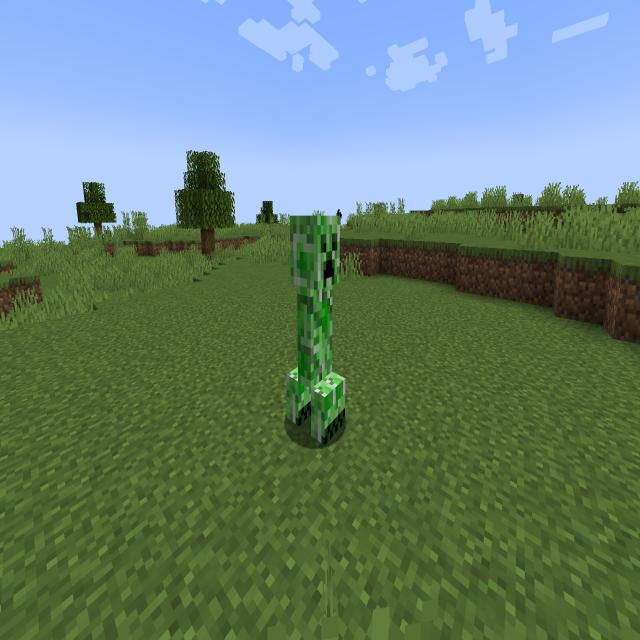Creeper: (276, 204, 356, 459)
